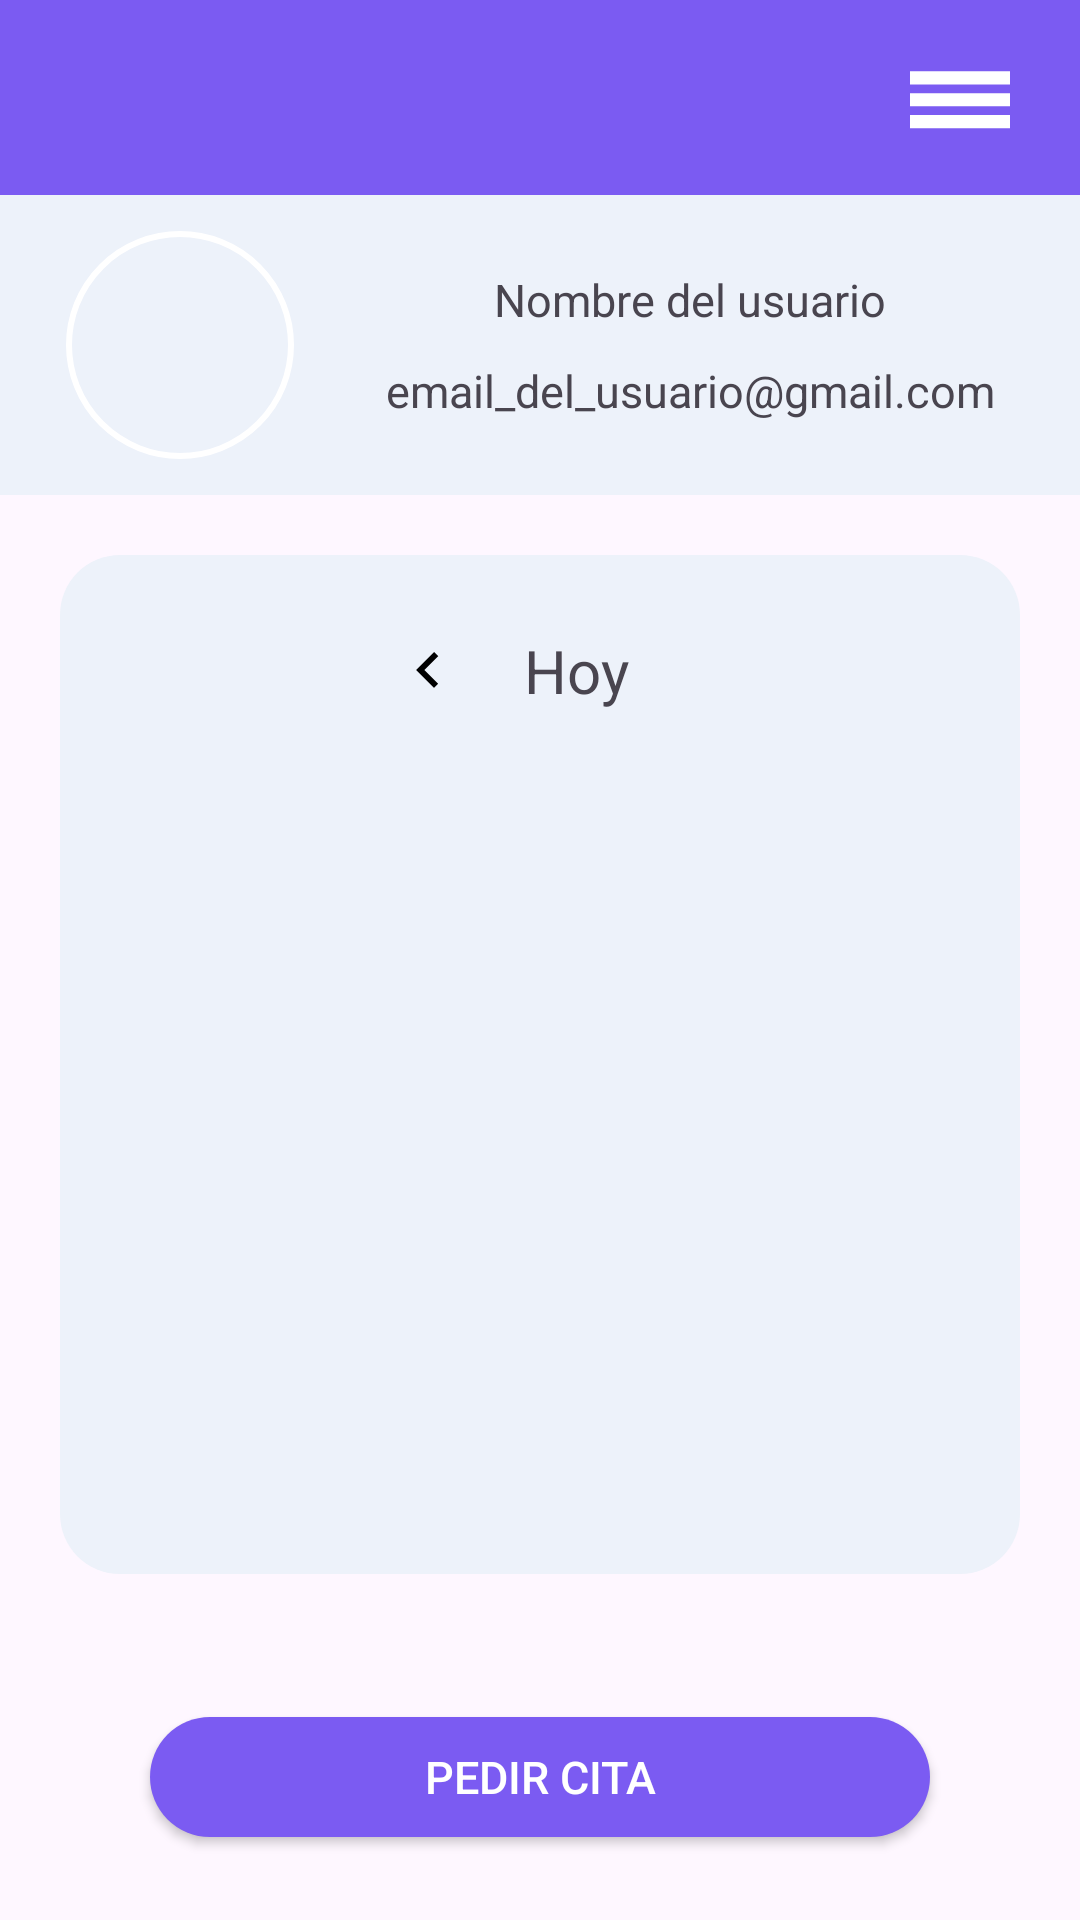

Where icons sit on this 1080*1920 app screen, as [x1=x1, y1=y1, x2=x2, y2=y2]:
keyboard arrow back: [x1=416, y1=652, x2=438, y2=688]
menu: [x1=910, y1=71, x2=1010, y2=129]
